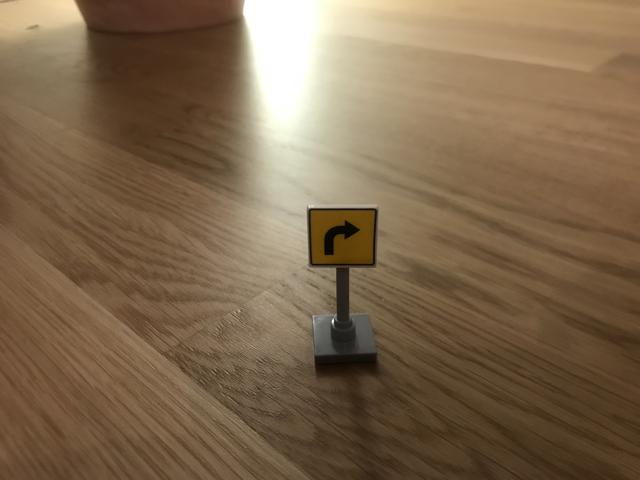fahrtrichtung rechts: (307, 203, 379, 268)
